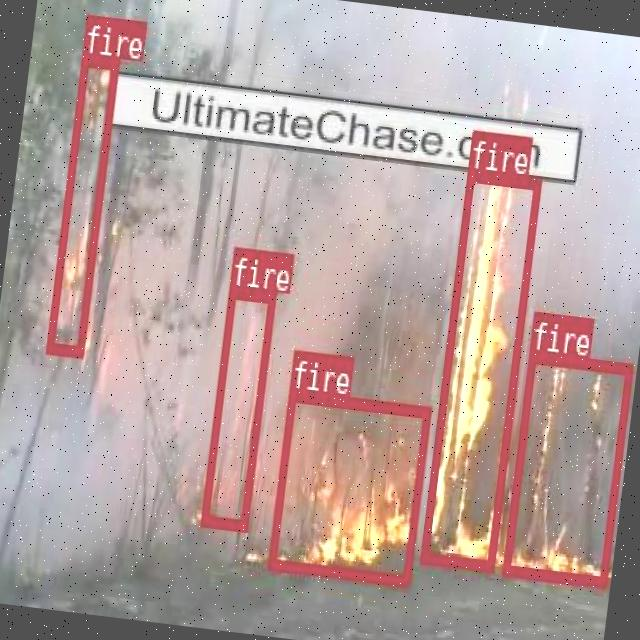fire: (419, 168, 540, 570), (266, 389, 430, 584), (501, 349, 632, 585), (45, 53, 118, 354), (198, 286, 274, 528)
